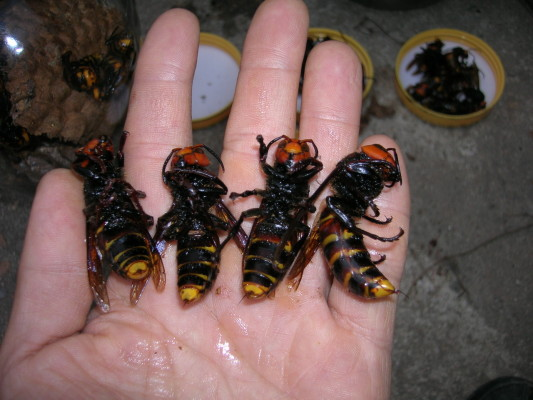asian_giant_hornet: (294, 138, 406, 299), (70, 131, 166, 313), (229, 132, 326, 299), (150, 142, 231, 305)
